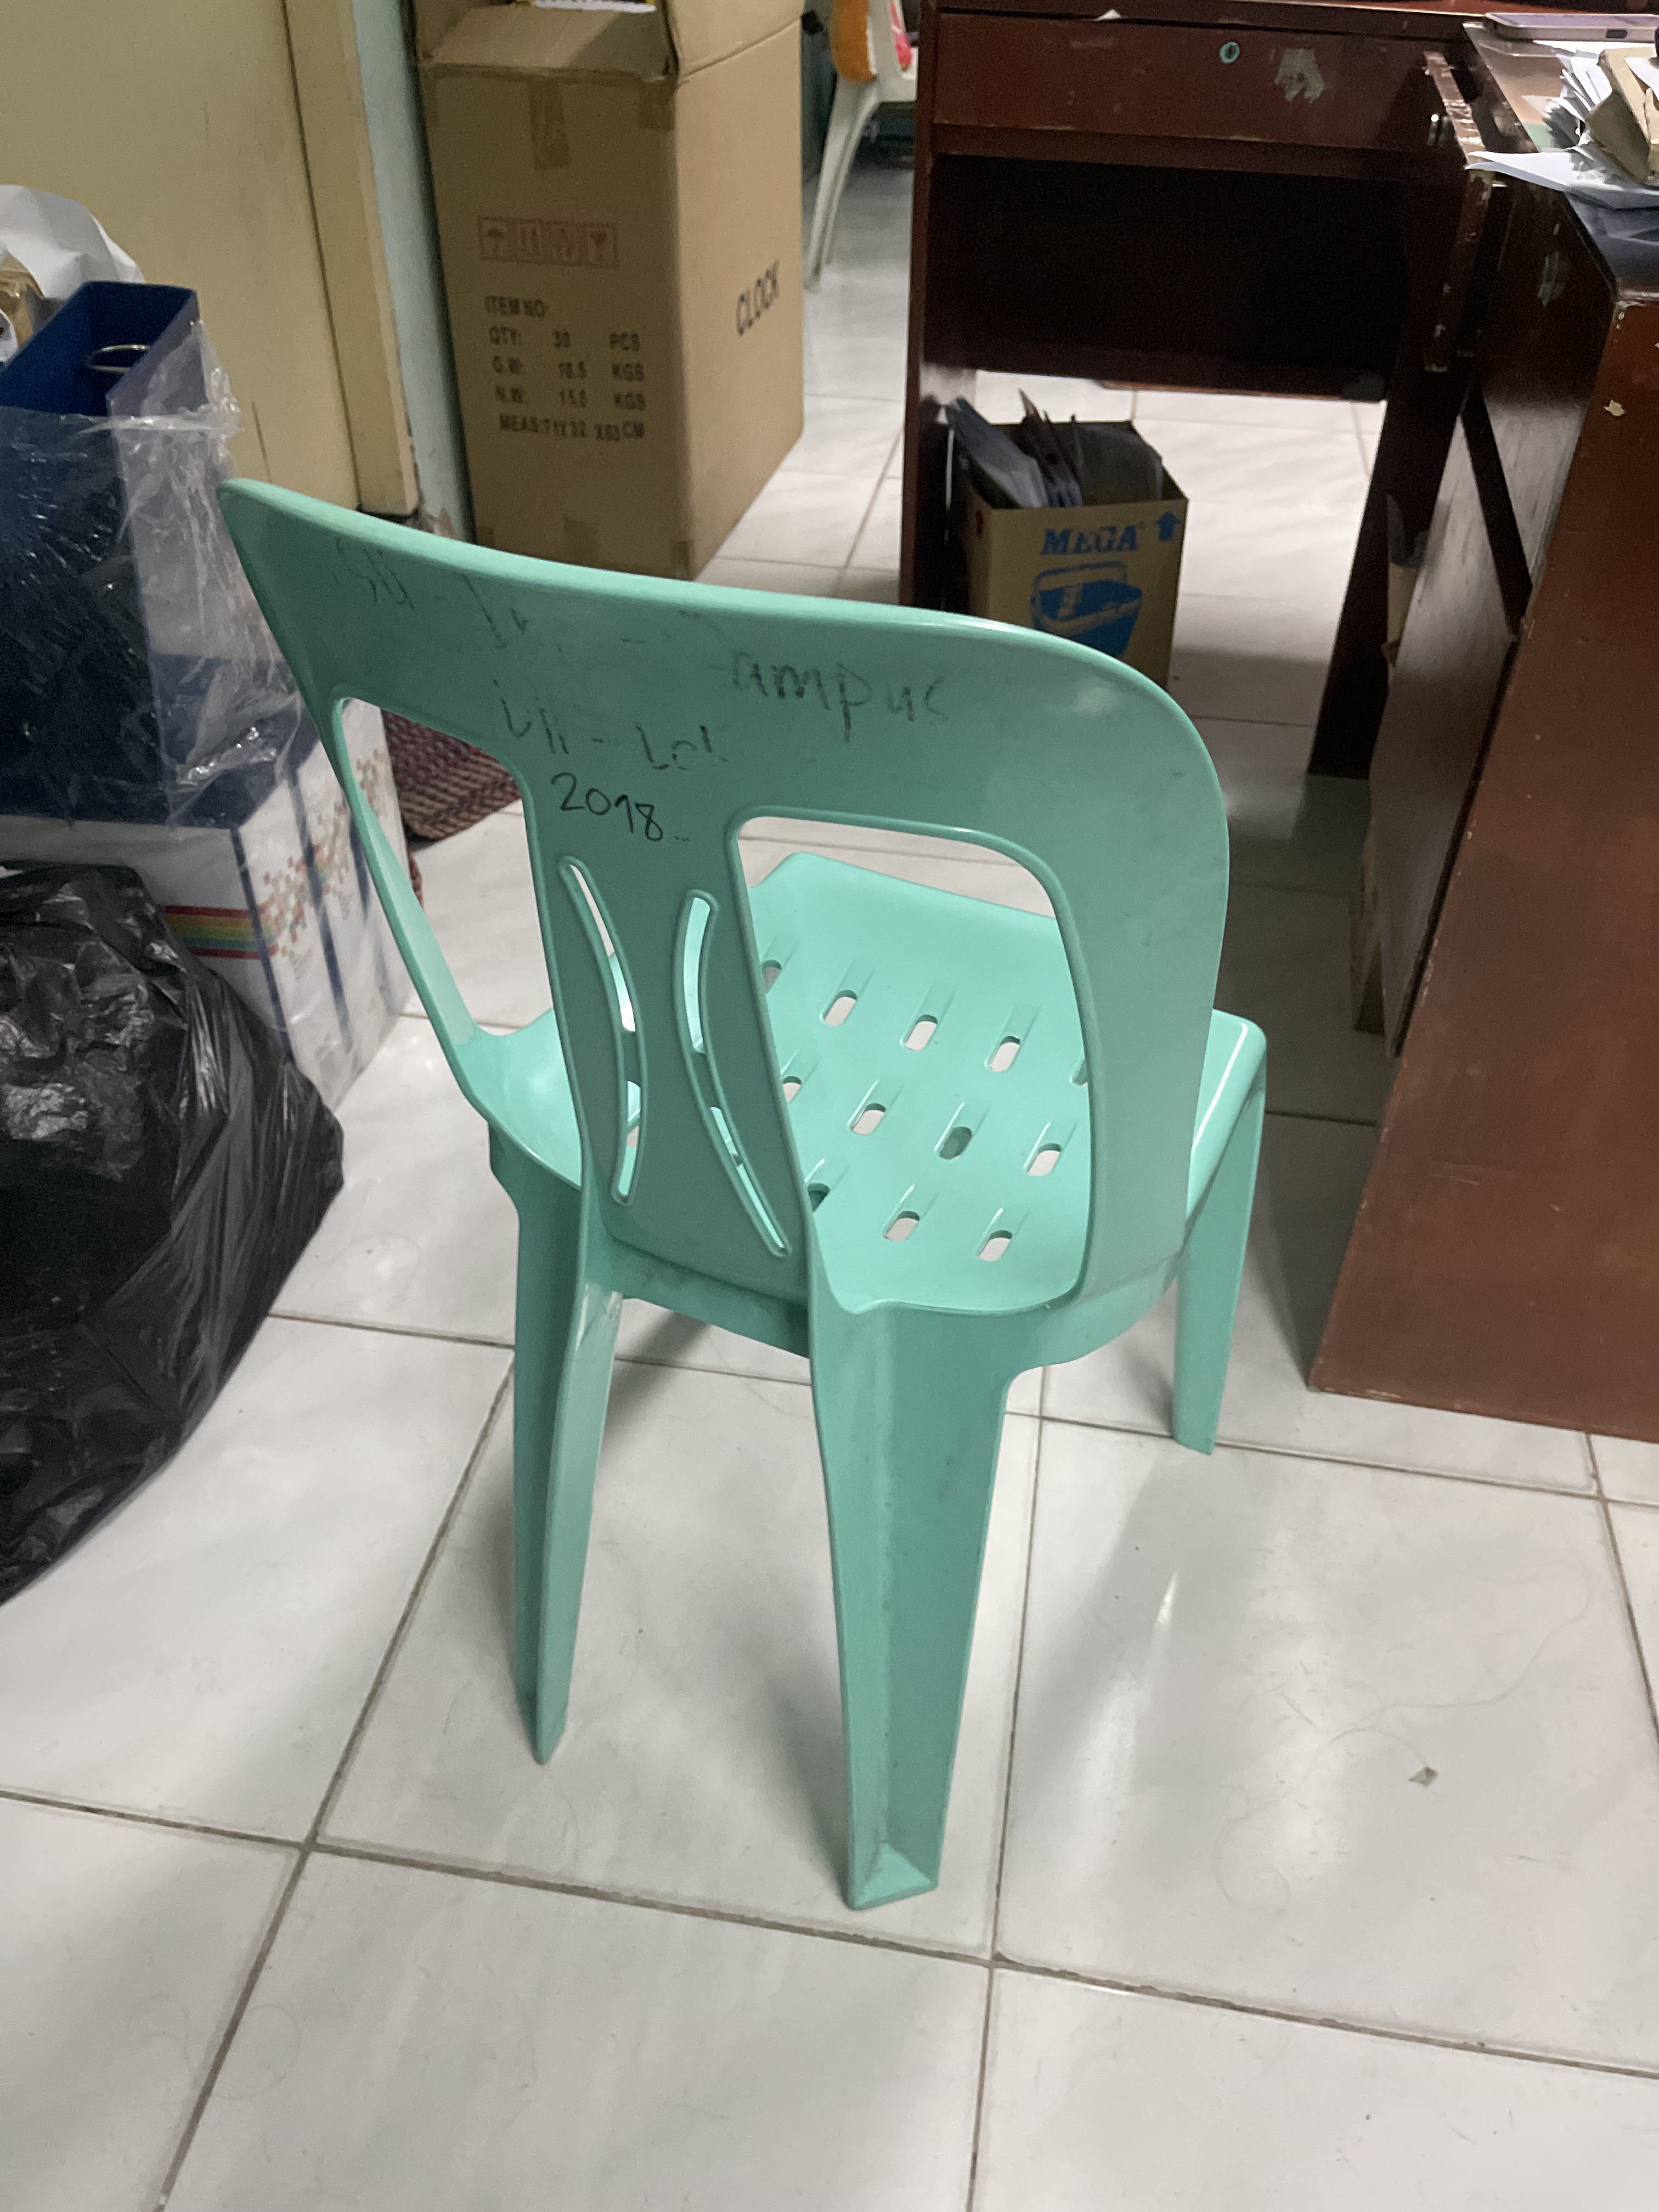chair2: (206, 467, 1279, 1928)
